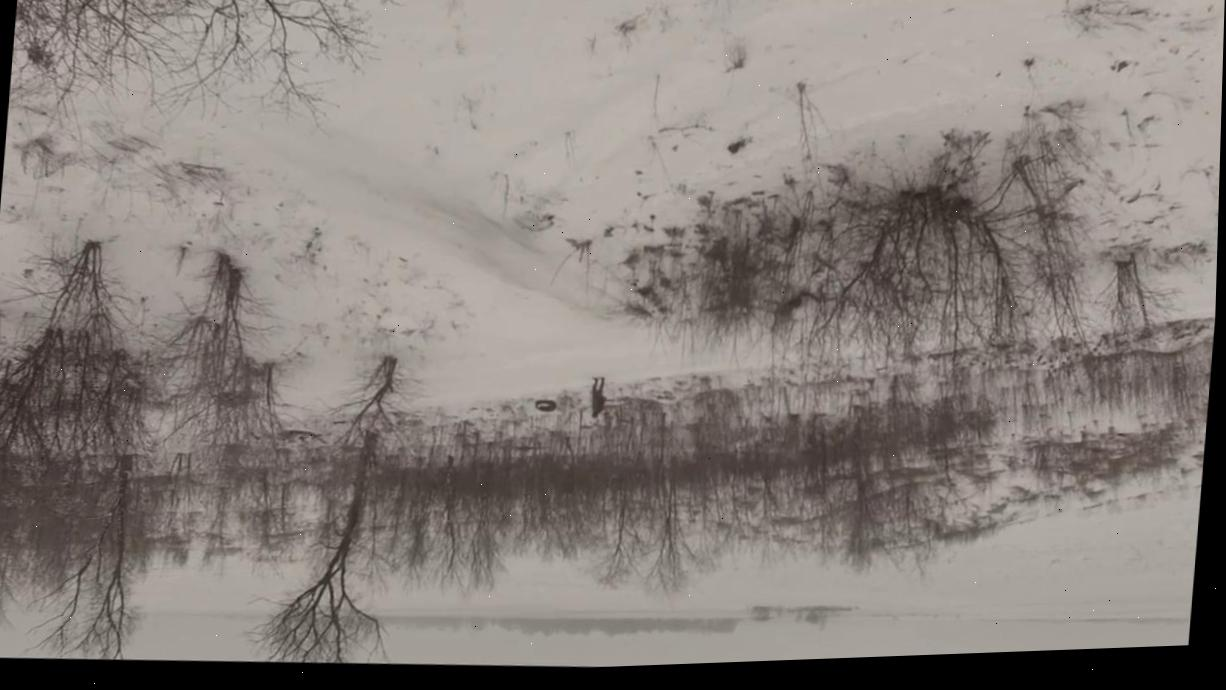person: (588, 376, 608, 420)
